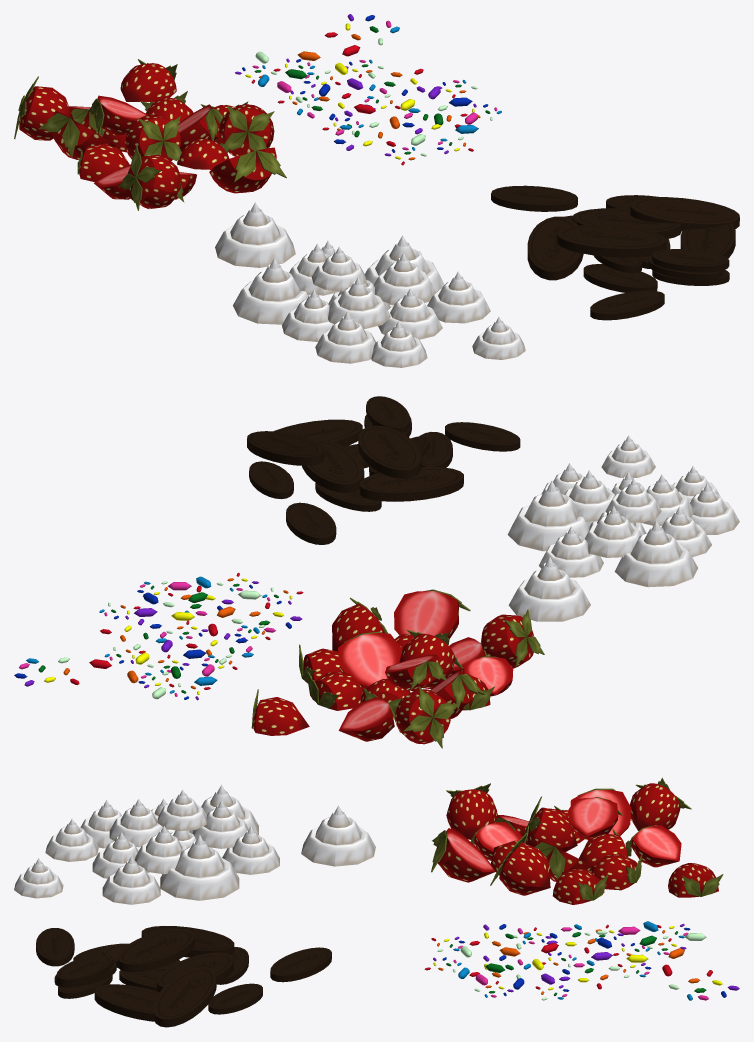
The model's file is Ingredients_piles.fbx.
The picture shows the model from 3 angles, top to bottom: view 1: azimuth 30°, elevation 25°; view 2: azimuth 150°, elevation 25°; view 3: azimuth 270°, elevation 25°; orthographic projection. The views are drawn at different scales.
Visible parts, largest first — view 1: Whipped_cream_pile, Strawberry_pile, Chocolate_pile, Sprinkles_pile; view 2: Strawberry_pile, Whipped_cream_pile, Chocolate_pile, Sprinkles_pile; view 3: Strawberry_pile, Whipped_cream_pile, Chocolate_pile, Sprinkles_pile.
Part boxes in pixels (x1,y1,x2,y2): Whipped_cream_pile: (215,202,525,367); Strawberry_pile: (14,59,286,210); Chocolate_pile: (491,185,739,320); Sprinkles_pile: (235,14,501,165); Strawberry_pile: (251,589,544,748); Whipped_cream_pile: (507,435,739,621); Chocolate_pile: (247,396,520,544); Sprinkles_pile: (14,572,303,700); Strawberry_pile: (431,777,723,904); Whipped_cream_pile: (14,785,375,904); Chocolate_pile: (36,926,331,1027); Sprinkles_pile: (424,921,739,1000).
Size of the model in its own units: 8.95 by 1.39 by 12.84.
